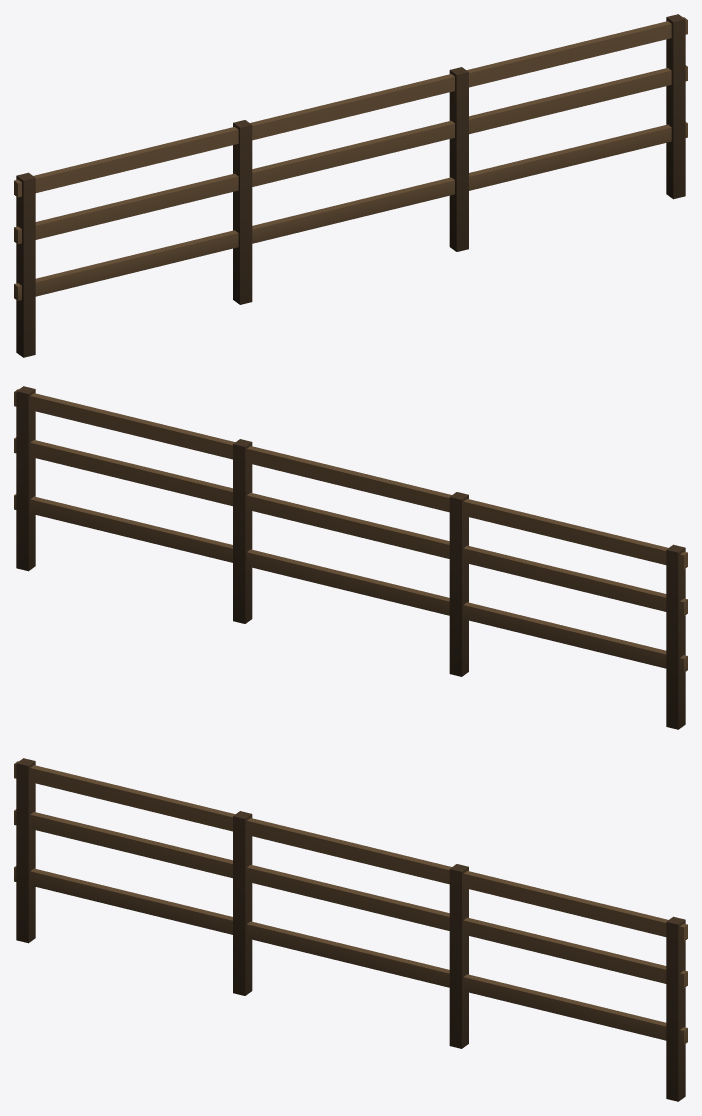
Rendered from struct_fence.glb.
3 renders of one model, top to bottom at view 1: azimuth 30°, elevation 25°; view 2: azimuth 150°, elevation 25°; view 3: azimuth 330°, elevation 25°, orthographic.
Visible parts, largest first — view 1: rails, posts; view 2: rails, posts; view 3: rails, posts.
Part boxes in pixels (x1,y1,x2,y2): rails: [14, 17, 687, 300]; posts: [16, 14, 685, 357]; rails: [14, 389, 687, 672]; posts: [16, 386, 685, 729]; rails: [14, 761, 687, 1044]; posts: [16, 758, 685, 1101].
Bounding box in the file's own units: 4.95 × 1.25 × 0.09.
